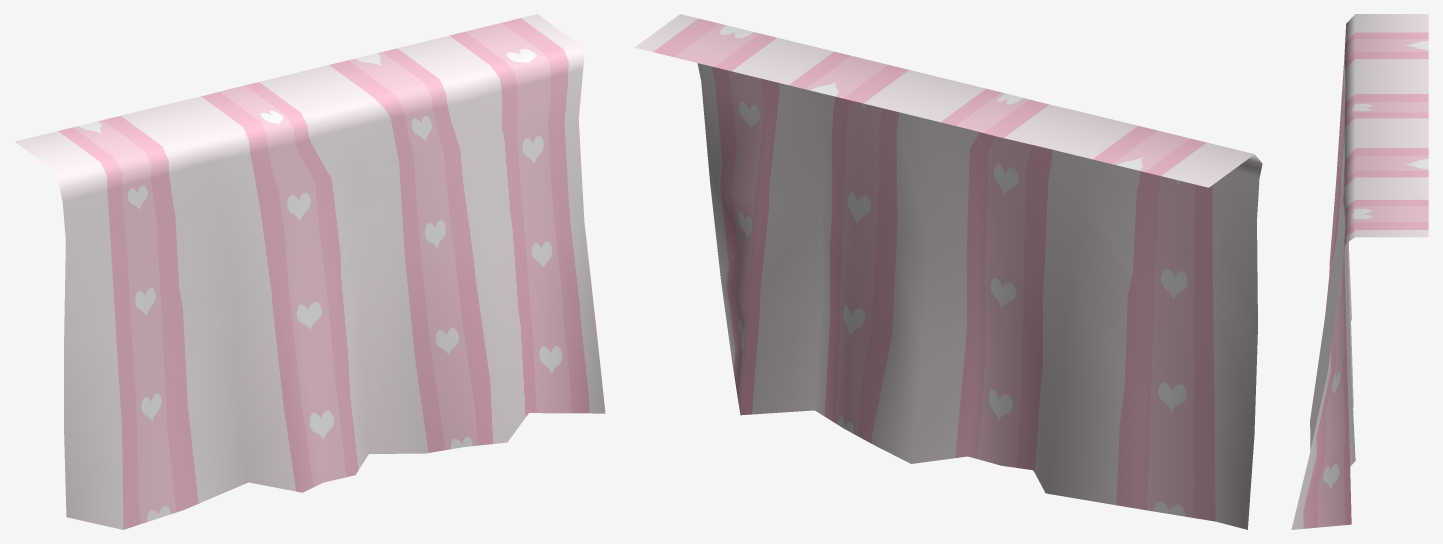
The model's file is fabric_short.fbx.
3 renders of one model, left to right at view 1: azimuth 30°, elevation 25°; view 2: azimuth 150°, elevation 25°; view 3: azimuth 270°, elevation 25°, orthographic. The views are drawn at different scales.
Visible parts, largest first — view 1: fabric_short; view 2: fabric_short; view 3: fabric_short.
Part boxes in pixels (x1,y1,x2,y2): fabric_short: [15, 14, 605, 529]; fabric_short: [635, 14, 1262, 529]; fabric_short: [1291, 14, 1428, 529].
Size of the model in its own units: 1716 by 1126 by 444.
